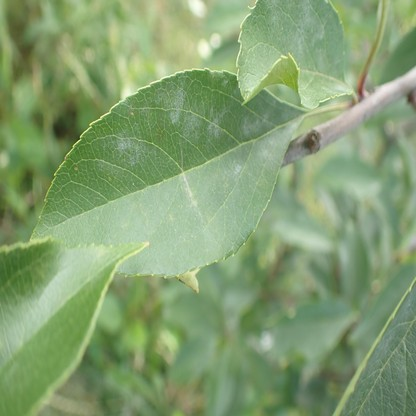powder: (351, 285, 416, 416), (294, 0, 326, 52), (156, 85, 187, 123), (113, 134, 149, 164), (207, 105, 231, 141), (266, 0, 285, 35), (183, 107, 204, 138), (180, 173, 197, 206), (242, 113, 269, 133), (258, 136, 275, 163), (209, 70, 228, 87), (316, 54, 329, 73), (285, 120, 298, 134), (232, 161, 244, 173), (98, 161, 106, 171)
